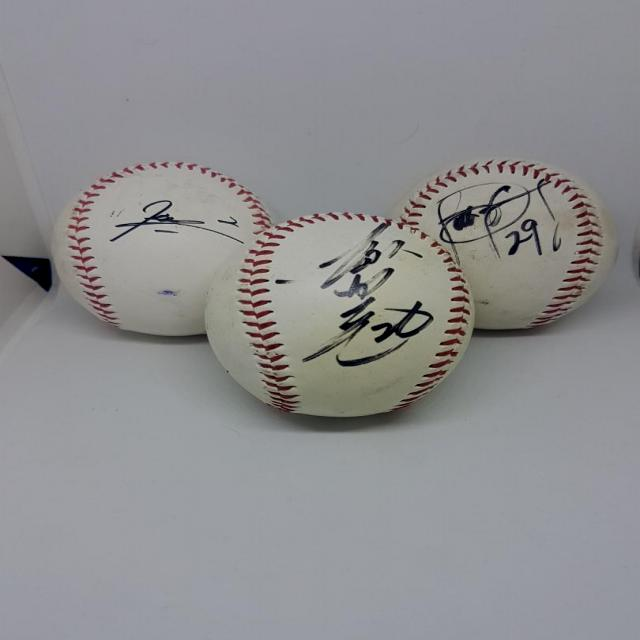ball: (204, 208, 476, 424), (48, 162, 274, 342), (400, 153, 620, 335)
